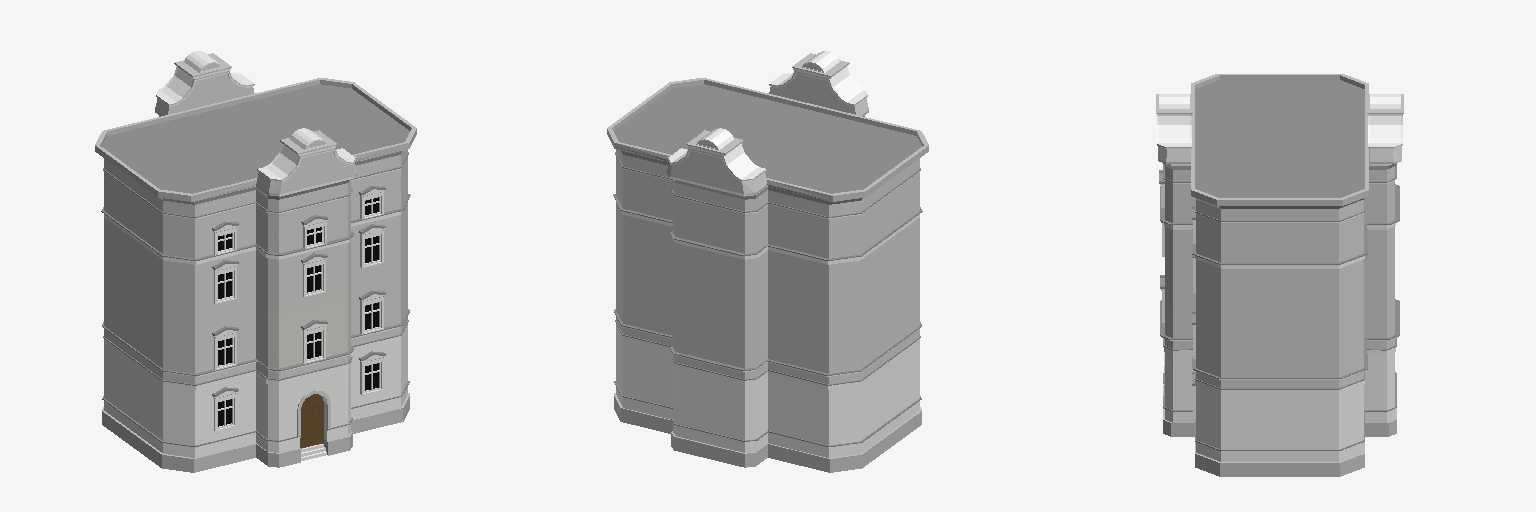
The picture shows the model from 3 angles: view 1: azimuth 30°, elevation 25°; view 2: azimuth 150°, elevation 25°; view 3: azimuth 270°, elevation 25°; orthographic projection.
Parts seen in each view (by area): view 1: Building4_Cube.001; view 2: Building4_Cube.001; view 3: Building4_Cube.001.
Boxes of the visible parts, box(x1,y1,x2,y2) form: Building4_Cube.001: box(95, 51, 416, 472); Building4_Cube.001: box(607, 51, 928, 472); Building4_Cube.001: box(1156, 74, 1403, 476).
Size of the model in its own units: 4.64 by 5.49 by 3.86.
1 materials, 1 textured.